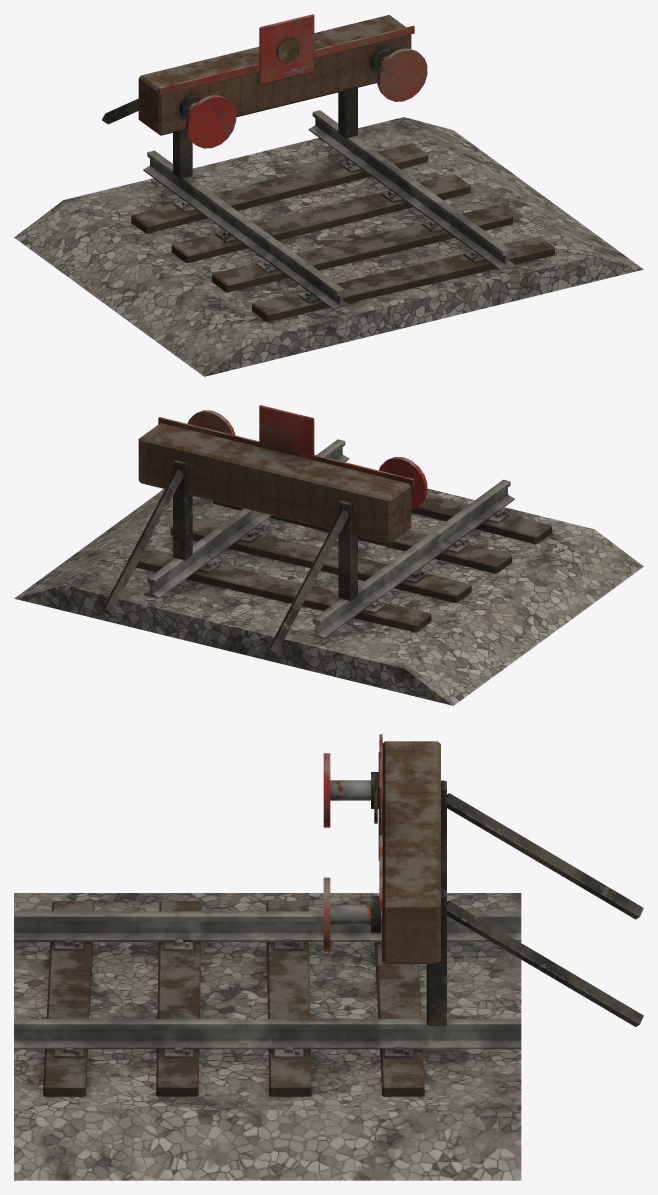
Rendered from BufferStop.fbx.
3 renders of one model, top to bottom at view 1: azimuth 30°, elevation 25°; view 2: azimuth 150°, elevation 25°; view 3: azimuth 270°, elevation 25°, orthographic. The views are drawn at different scales.
Parts seen in each view (by area): view 1: BufferStop; view 2: BufferStop; view 3: BufferStop.
Boxes of the visible parts, x1,y1,x2,y2 form: BufferStop: (14,14,643,376); BufferStop: (14,405,643,705); BufferStop: (14,734,643,1180).
Size of the model in its own units: 12 by 5.27 by 11.17.
Materials: 1 (1 with a texture image).
